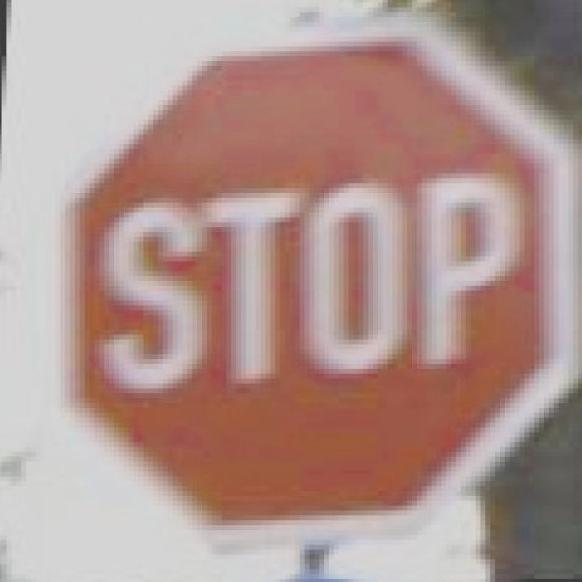stop_sign: (23, 0, 582, 579)
